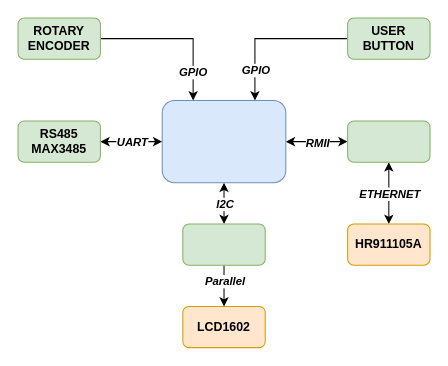
The diagram is 448 pixels wide and 366 high, and some of its shapes have lost their labels. Here are the shapes that lost their labels. From the top down, the centre of each, then its label:
the point at 223,141: ESP32-WROVER-IE-N4R8
the point at 388,141: LAN8720A
the point at 223,244: HD44780
